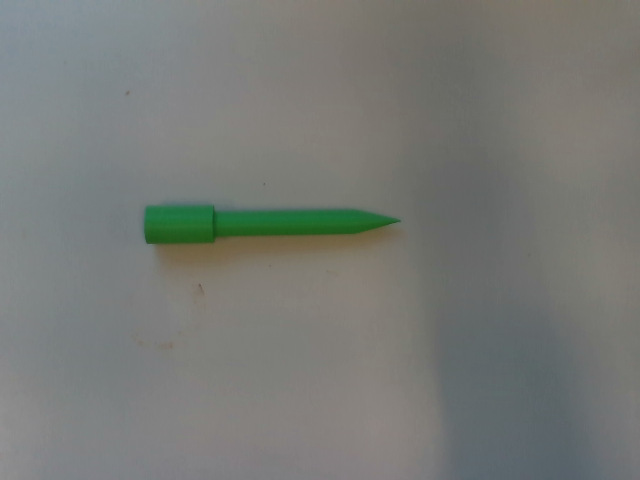Probe: (135, 197, 412, 248)
